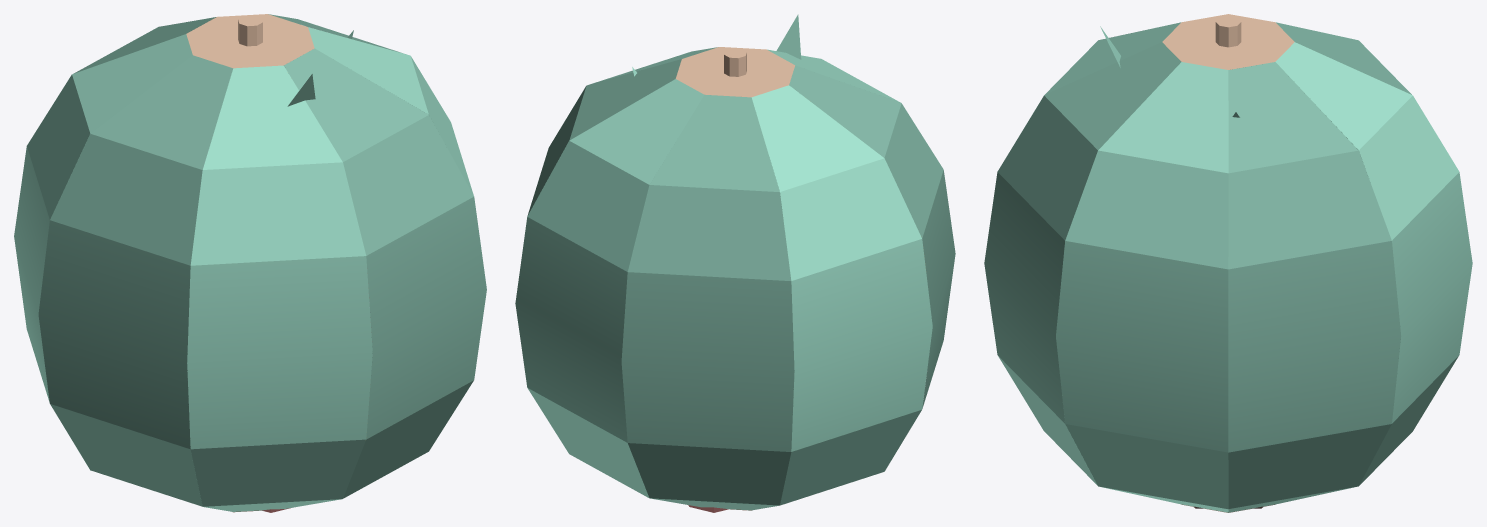
Rendered from fr-fruits.glb.
3 renders of one model, left to right at view 1: azimuth 30°, elevation 25°; view 2: azimuth 150°, elevation 25°; view 3: azimuth 270°, elevation 25°, orthographic. The views are drawn at different scales.
Visible parts, largest first — view 1: slice (×7); view 2: slice (×7), pineapple; view 3: slice (×6).
Boxes of the visible parts, <box> form: slice (×7): <box>14,14,486,511</box>; slice (×7): <box>515,47,955,510</box>; pineapple: <box>632,14,801,76</box>; slice (×6): <box>984,18,1472,512</box>.
Bounding box in the file's own units: 0.4554 × 0.4761 × 0.4554.
